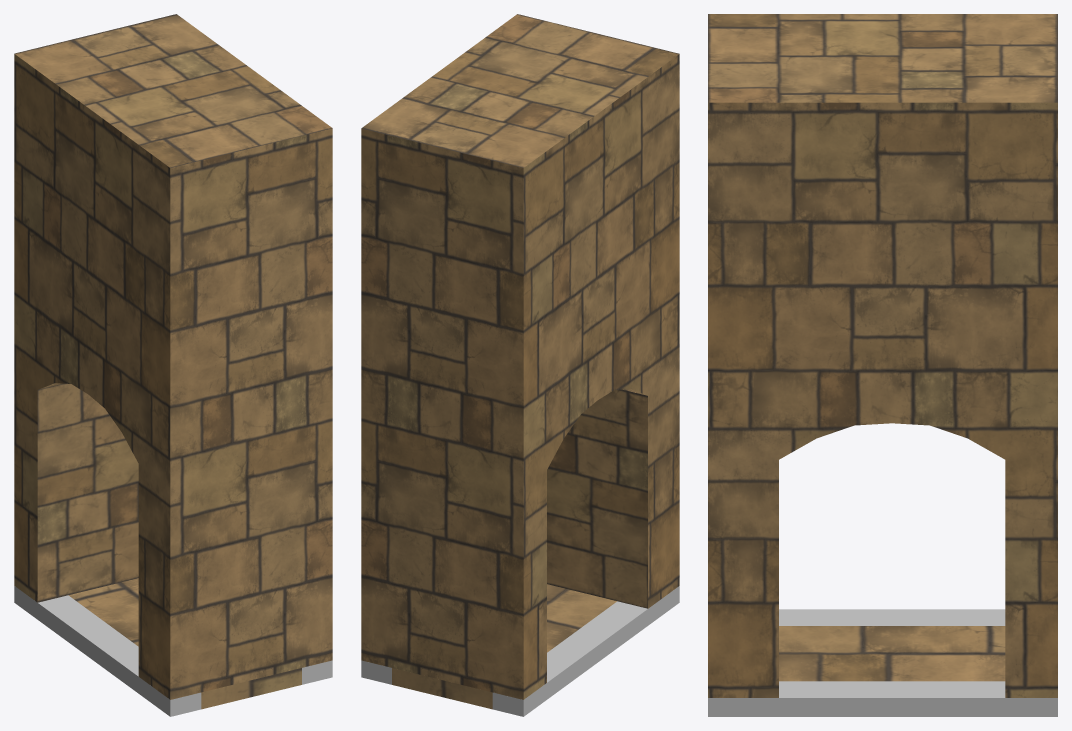
File: AN_WHW.fbx
3 renders of one model, left to right at view 1: azimuth 30°, elevation 25°; view 2: azimuth 150°, elevation 25°; view 3: azimuth 270°, elevation 25°, orthographic. The views are drawn at different scales.
Parts seen in each view (by area): view 1: AN_WHW, AN_WHW_floor; view 2: AN_WHW, AN_WHW_floor; view 3: AN_WHW, AN_WHW_floor.
Boxes of the visible parts, x1,y1,x2,y2 form: AN_WHW: (14, 14, 332, 699); AN_WHW_floor: (14, 578, 332, 716); AN_WHW: (361, 14, 679, 699); AN_WHW_floor: (361, 584, 679, 716); AN_WHW: (708, 14, 1057, 697); AN_WHW_floor: (708, 609, 1057, 716).
Bounding box in the file's own units: 3 × 9.69 × 5.
